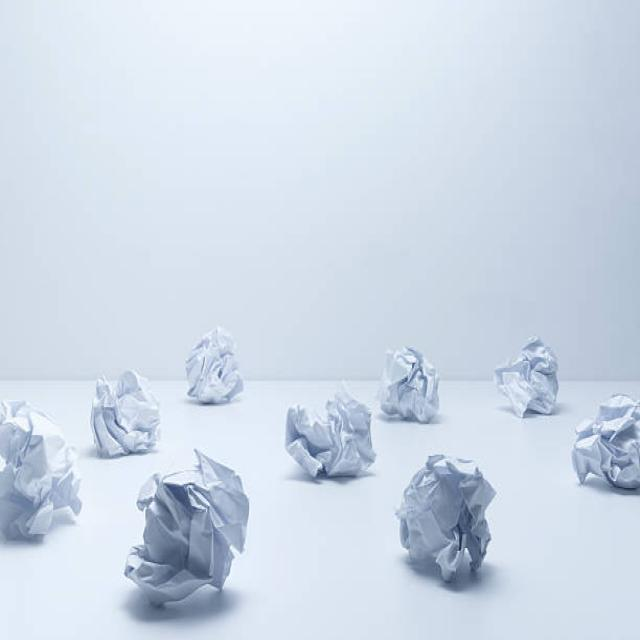Paper: (120, 443, 248, 604), (394, 447, 498, 585), (0, 390, 82, 546), (280, 380, 378, 482), (570, 391, 640, 494), (90, 368, 164, 458), (374, 346, 441, 424), (181, 324, 246, 404), (496, 338, 560, 418)
